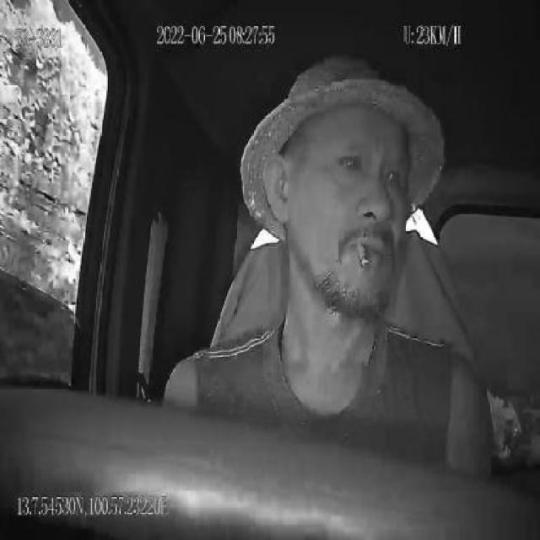smoking: (355, 236, 370, 270)
